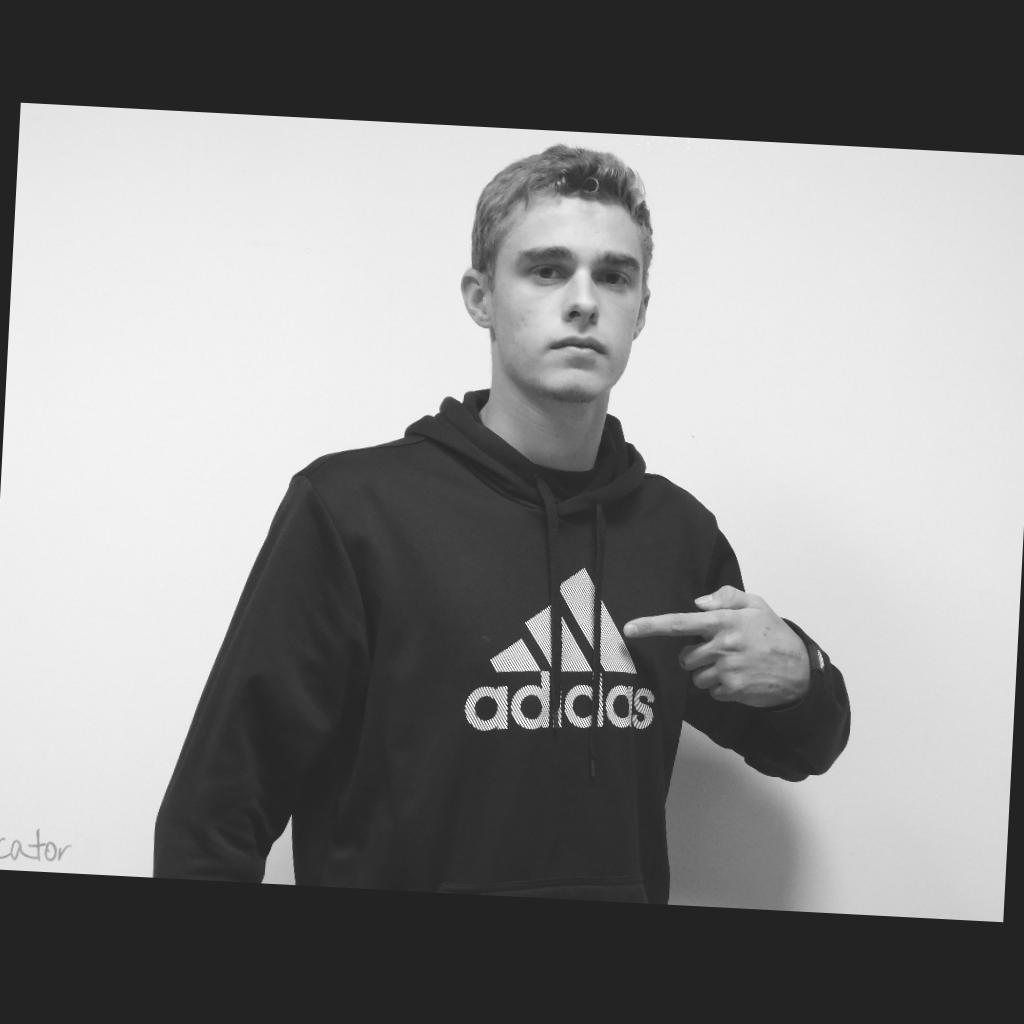I: (620, 580, 812, 710)
